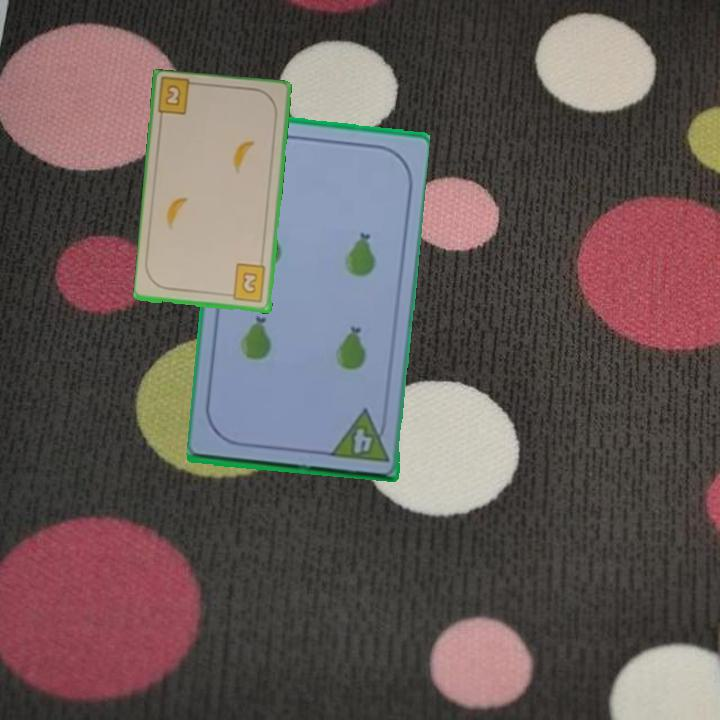2b: (224, 261, 269, 305), (161, 81, 184, 109)
4p: (326, 405, 391, 465)
